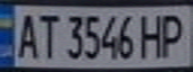3: (60, 10, 84, 60)
4: (100, 11, 121, 60)
5: (81, 11, 103, 61)
6: (115, 11, 139, 61)
A: (12, 9, 42, 60)
H: (136, 10, 169, 58)
P: (157, 10, 190, 57)
T: (33, 9, 60, 60)
